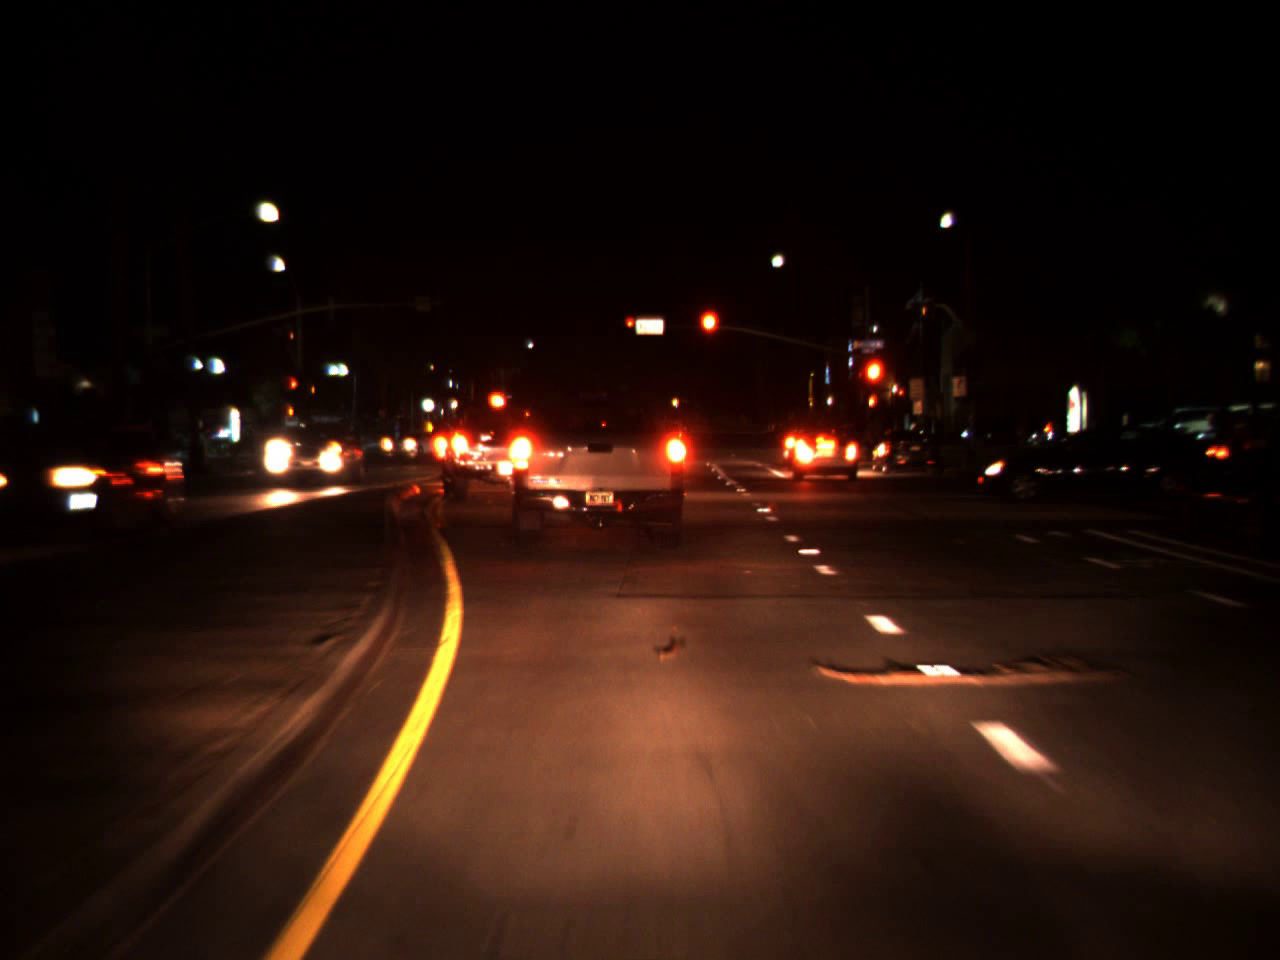stop: (859, 354, 889, 418), (696, 307, 721, 361), (289, 376, 299, 400), (625, 316, 635, 337)
